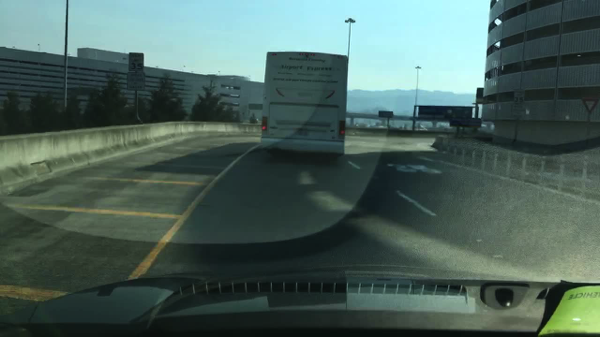bus: (261, 52, 349, 162)
traffic sign: (418, 105, 471, 121), (126, 72, 146, 91), (448, 118, 481, 128), (513, 88, 524, 117), (129, 53, 144, 71), (582, 97, 598, 113), (378, 110, 393, 118)
